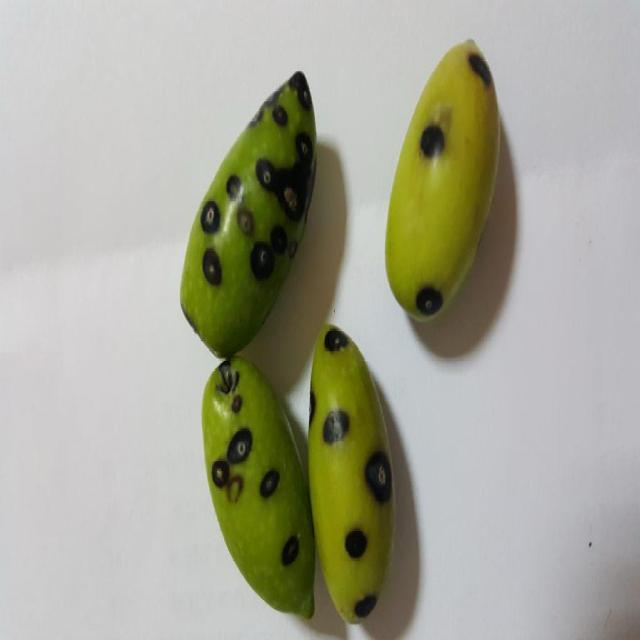Olive Fruit Fly: (181, 72, 316, 357), (385, 41, 499, 320), (202, 359, 315, 619), (308, 324, 394, 623)
